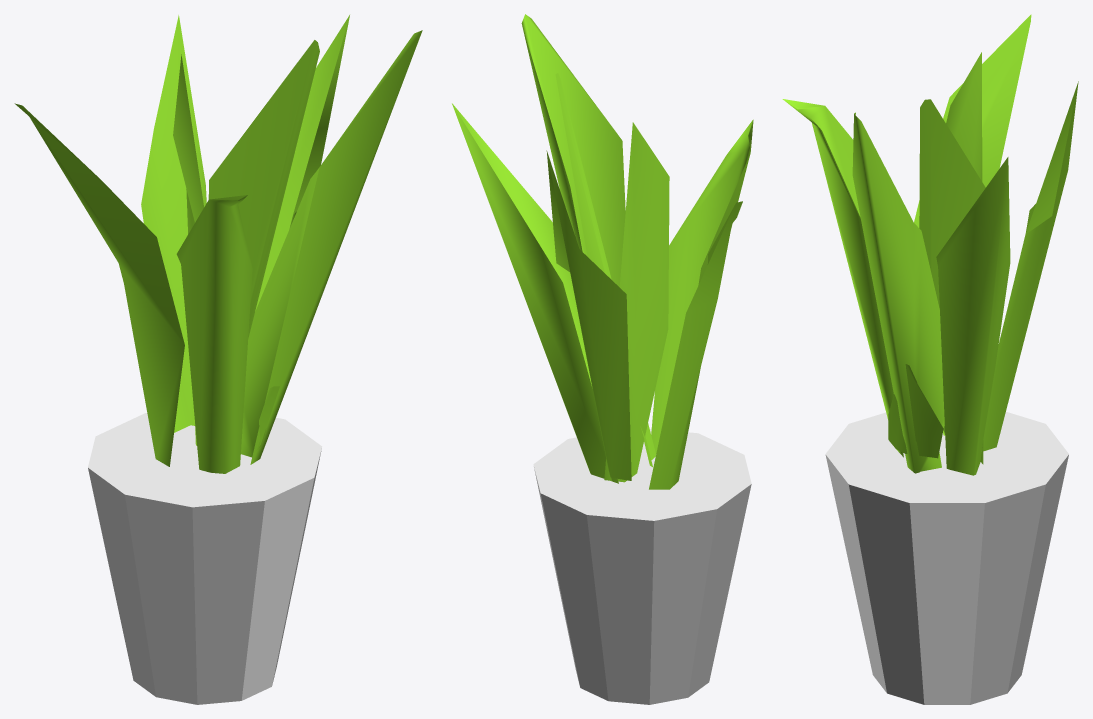
Rendered from p_çiçek.obj.
3 renders of one model, left to right at view 1: azimuth 30°, elevation 25°; view 2: azimuth 150°, elevation 25°; view 3: azimuth 270°, elevation 25°, orthographic. The views are drawn at different scales.
Visible parts, largest first — view 1: Cylinder.021_m_açıkgreen, Cylinder.021_m_beyaz, Cylinder.021_m_çingenepembe; view 2: Cylinder.021_m_açıkgreen, Cylinder.021_m_çingenepembe, Cylinder.021_m_beyaz; view 3: Cylinder.021_m_açıkgreen, Cylinder.021_m_beyaz, Cylinder.021_m_çingenepembe.
Boxes of the visible parts, x1,y1,x2,y2 form: Cylinder.021_m_açıkgreen: [14, 15, 422, 473]; Cylinder.021_m_beyaz: [88, 413, 322, 704]; Cylinder.021_m_çingenepembe: [88, 451, 321, 704]; Cylinder.021_m_açıkgreen: [452, 14, 753, 489]; Cylinder.021_m_çingenepembe: [534, 467, 751, 704]; Cylinder.021_m_beyaz: [533, 429, 751, 520]; Cylinder.021_m_açıkgreen: [782, 14, 1078, 475]; Cylinder.021_m_beyaz: [825, 411, 1068, 704]; Cylinder.021_m_çingenepembe: [848, 455, 1068, 704].
Size of the model in its own units: 8.62 by 16.13 by 6.7.
